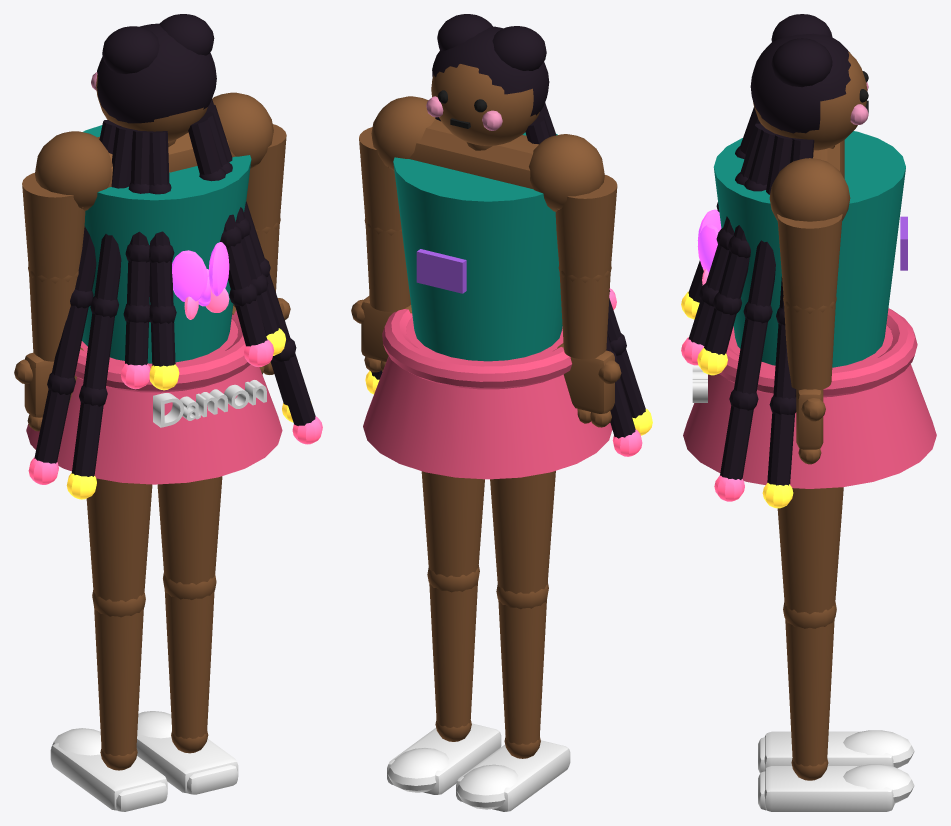
The model's file is dijah.glb.
The picture shows the model from 3 angles, left to right: view 1: azimuth 30°, elevation 25°; view 2: azimuth 150°, elevation 25°; view 3: azimuth 270°, elevation 25°; orthographic projection. The views are drawn at different scales.
Visible parts, largest first — view 1: Bottom, Body, HairCap, LegLThigh, Braid6, LegRCalf, LegLCalf, LegRThigh, ArmLUpper, Braid7, Shoulder, Braid4 (+31 smaller); view 2: Body, Bottom, LegLThigh, Waistband, LegRCalf, LegLCalf, LegRThigh, Head, ArmLUpper, Shoulders, Shoulder, ArmLFore (+18 smaller); view 3: Body, Bottom, LegRThigh, LegRCalf, Braid1, HairCap, ArmRUpper, ShoeR, Shoulder.001, Waistband, ArmRFore, Braid0 (+18 smaller).
Boxes of the visible parts, x1,y1,x2,y2 form: Bottom: (26,319,282,484); Body: (82,125,251,363); HairCap: (97,23,216,123); LegLThigh: (86,478,152,601); Braid6: (71,126,137,476); LegRCalf: (164,590,214,738); LegLCalf: (94,607,143,755); LegRThigh: (157,476,222,584); ArmLUpper: (22,173,85,278); Braid7: (34,120,121,463); Shoulder: (35,131,112,210); Braid4: (149,131,175,366); Body: (393,132,562,361); Bottom: (363,317,612,479); LegLThigh: (490,471,555,593); Waistband: (382,309,571,389); LegRCalf: (429,583,477,727); LegLCalf: (498,600,546,744); LegRThigh: (421,471,484,577); Head: (431,64,539,145); ArmLUpper: (555,175,617,278); Shoulders: (388,119,559,209); Shoulder: (529,134,604,211); ArmLFore: (559,270,610,359); Body: (713,131,905,367); Bottom: (683,324,936,488); LegRThigh: (777,487,843,614); LegRCalf: (785,619,834,766); Braid1: (720,134,792,479); HairCap: (750,33,850,133); ArmRUpper: (777,214,842,309); ShoeR: (764,766,894,811); Shoulder.001: (769,158,850,221); Waistband: (719,308,917,397); ArmRFore: (784,301,835,390); Braid0: (767,138,814,485).
Bounding box in the file's own units: 0.8287 × 2.17 × 0.6649.
